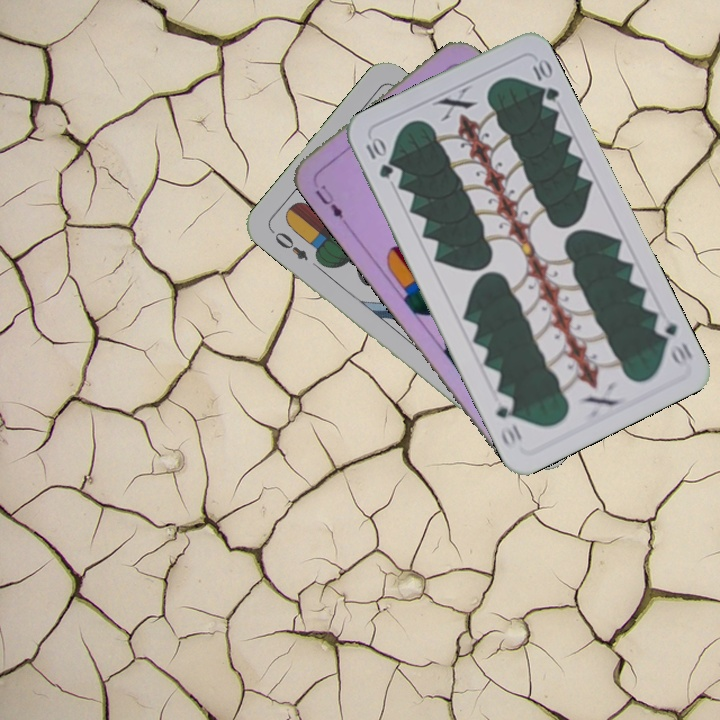EO: (267, 225, 311, 264)
EU: (311, 180, 346, 221)
G10: (650, 316, 695, 368), (361, 133, 396, 181)
